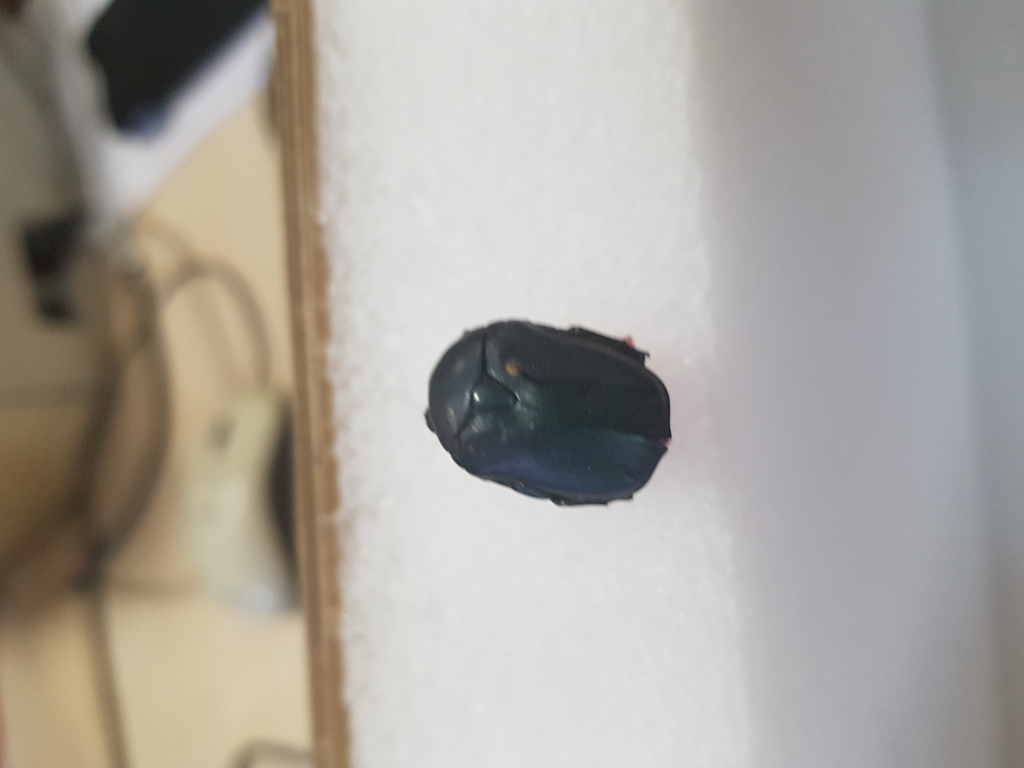Protaetia_afflicta: (405, 310, 675, 524)
